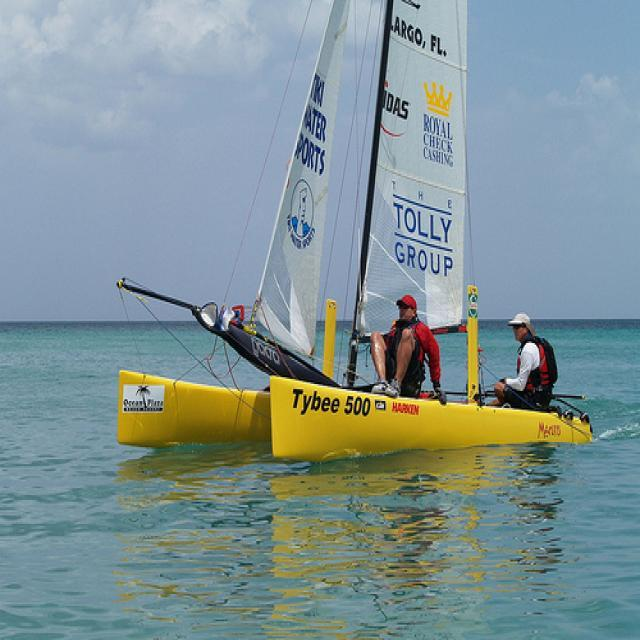Ship: (105, 1, 604, 464)
